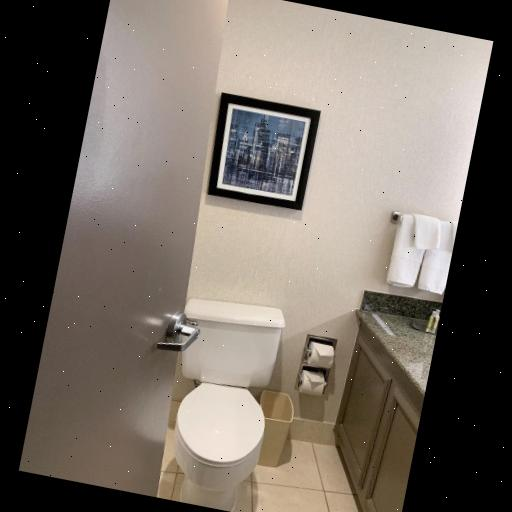clean_floor: (246, 443, 361, 512)
clean_sink: (330, 290, 440, 512)
clean_toilet: (144, 285, 294, 512)
folded_towel: (385, 207, 460, 296)
